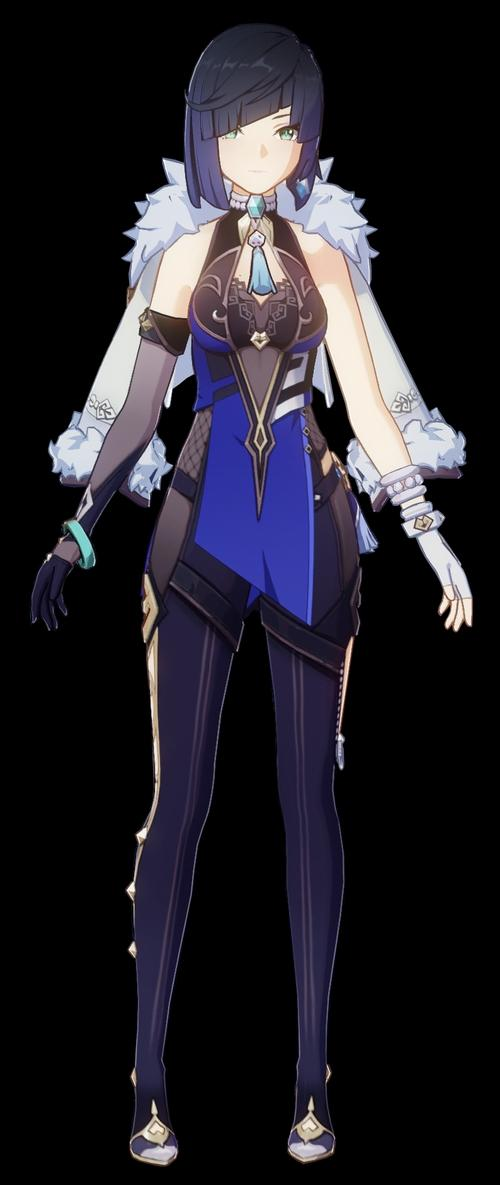夜兰: (29, 20, 470, 1168)
